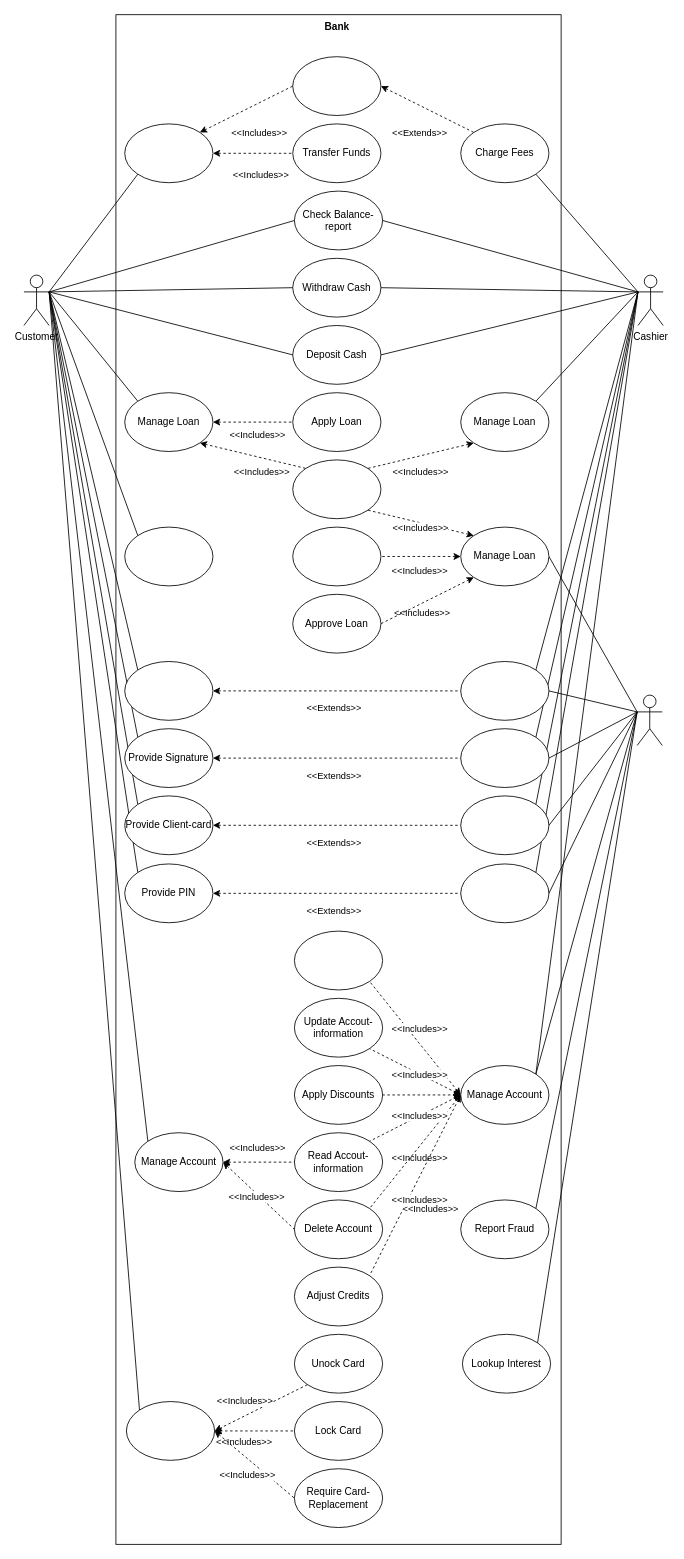
Image size: 684x1559. Some labels were removed from this diagram. The shapes that lost their labels are listed below. From the top down, each one's centre as x and y in pixels, then its label:
At (336,86): "Pay Fees".
At (168,153): "Make Payment".
At (336,489): "Read Loan-status".
At (168,556): "Schedule Appointment".
At (336,556): "Deny Loan".
At (168,690): "Provide ID".
At (504,690): "Require ID".
At (649,720): "Manager".
At (504,758): "Require Signature".
At (504,825): "Require Client-card".
At (504,893): "Require PIN".
At (338,960): "Create Accout".
At (170,1430): "Manage Card".
